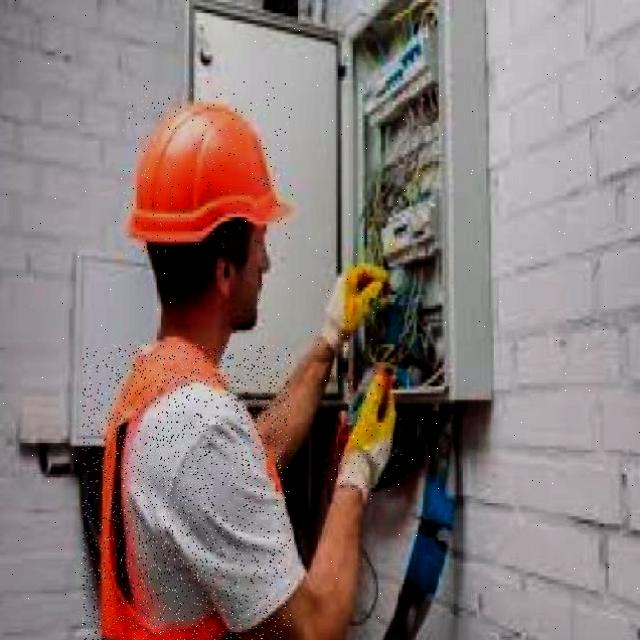Gloves: (337, 364, 397, 495), (322, 264, 388, 346)
Hardhat: (129, 105, 285, 244)
No Earmuff: (212, 255, 236, 308)
No Overall Suit: (100, 337, 305, 640)
